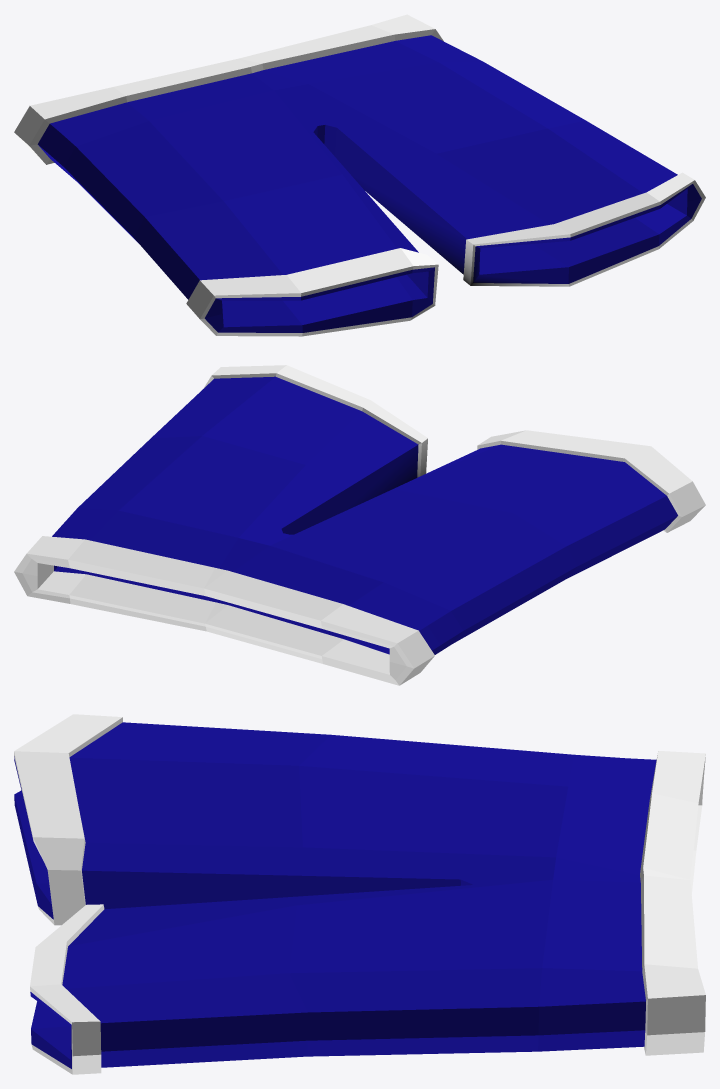
The model's file is Sports Shorts 2.fbx.
The picture shows the model from 3 angles, top to bottom: view 1: azimuth 30°, elevation 25°; view 2: azimuth 150°, elevation 25°; view 3: azimuth 270°, elevation 25°; orthographic projection. The views are drawn at different scales.
Parts seen in each view (by area): view 1: Node 0; view 2: Node 0; view 3: Node 0.
Part boxes in pixels (bbox=[...]): Node 0: bbox=[14, 14, 705, 336]; Node 0: bbox=[14, 365, 705, 685]; Node 0: bbox=[14, 714, 705, 1074].
Size of the model in its own units: 0.7864 by 0.1251 by 0.8665.
